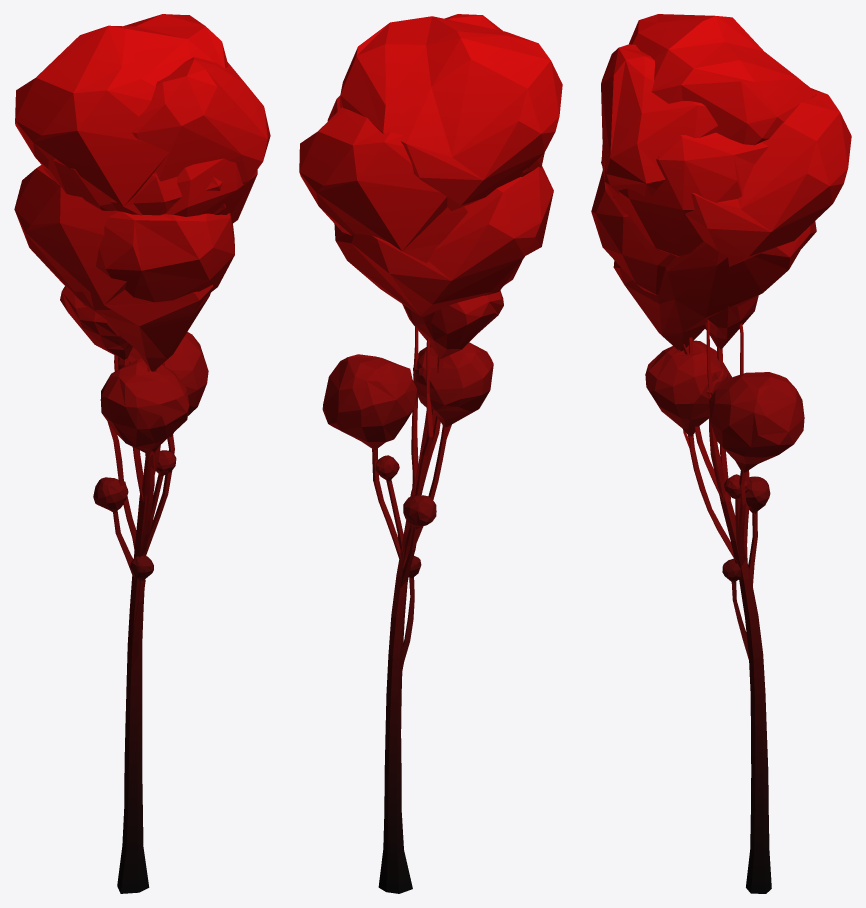
The model's file is TreeBirch07.fbx.
3 views of the same model, side by side, from view 1: azimuth 30°, elevation 25°; view 2: azimuth 150°, elevation 25°; view 3: azimuth 270°, elevation 25° (orthographic). The views are drawn at different scales.
Visible parts, largest first — view 1: TreeBirch07_LOD0; view 2: TreeBirch07_LOD0; view 3: TreeBirch07_LOD0.
Boxes of the visible parts, box(x1,y1,x2,y2) form: TreeBirch07_LOD0: box(14, 14, 270, 893); TreeBirch07_LOD0: box(299, 14, 562, 893); TreeBirch07_LOD0: box(591, 14, 851, 893).
Size of what is drawn, in the model's own units: 259 by 965 by 268.
